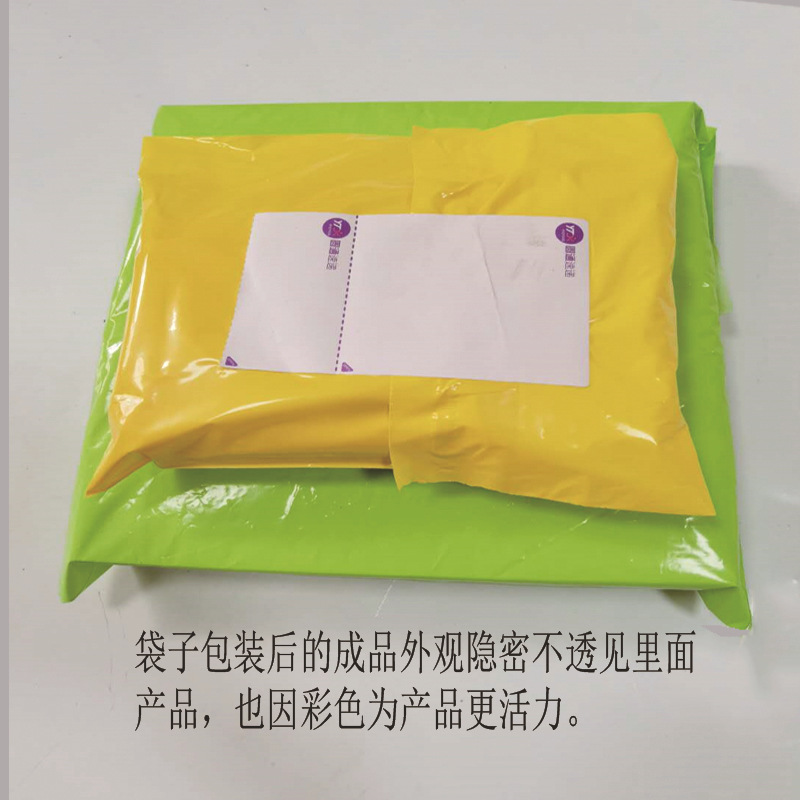Parcel: (60, 102, 752, 630)
